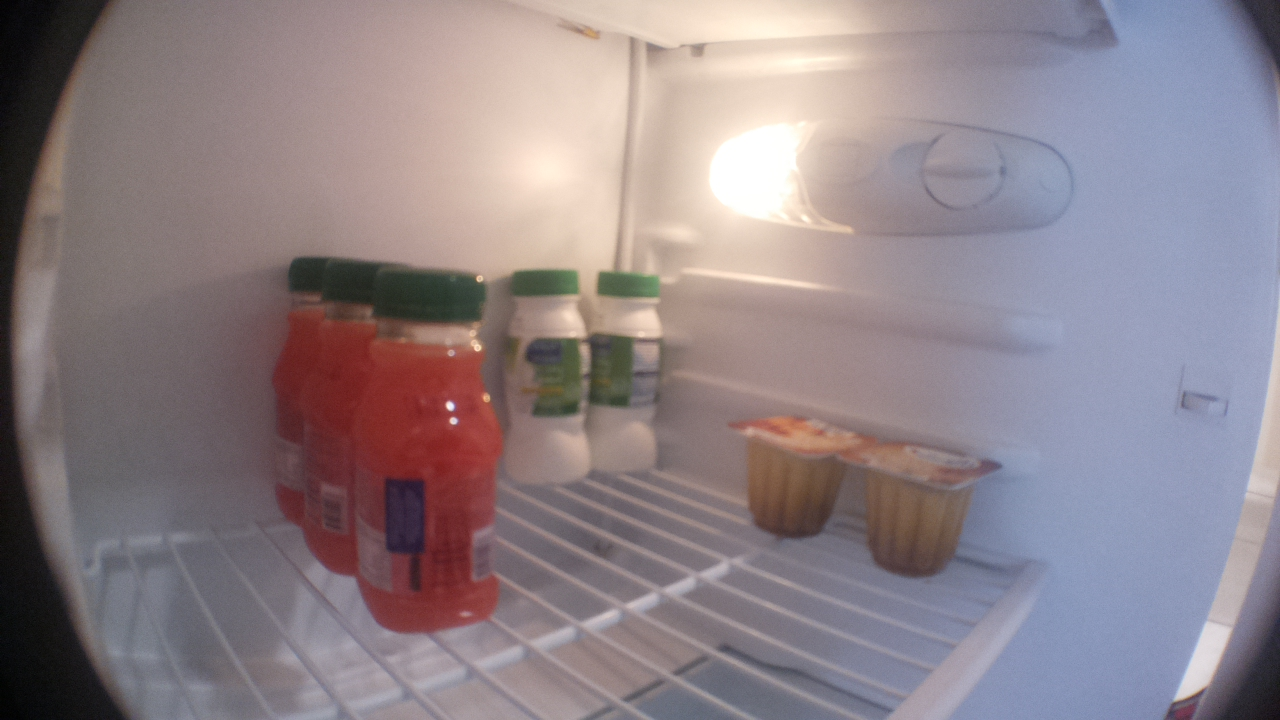caramel: (826, 437, 1006, 583), (721, 408, 876, 540)
juice: (342, 266, 506, 639), (297, 254, 373, 580), (265, 240, 327, 528)
laban: (584, 265, 679, 483), (499, 260, 589, 488)
